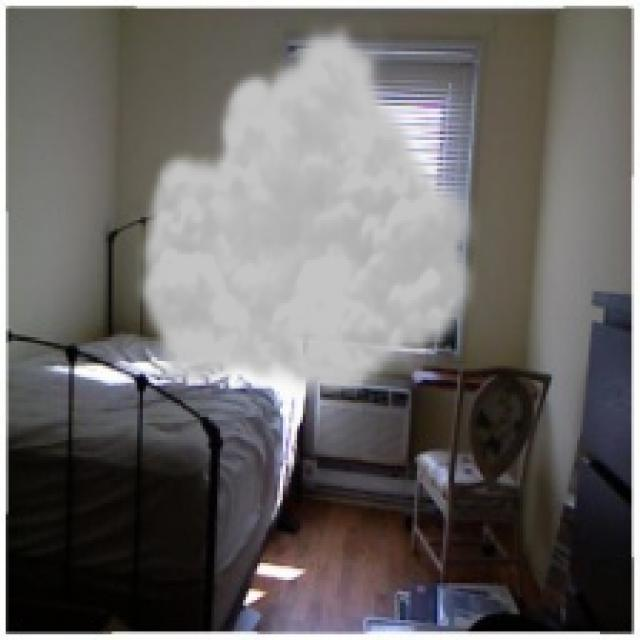Smoke: (131, 17, 486, 400)
